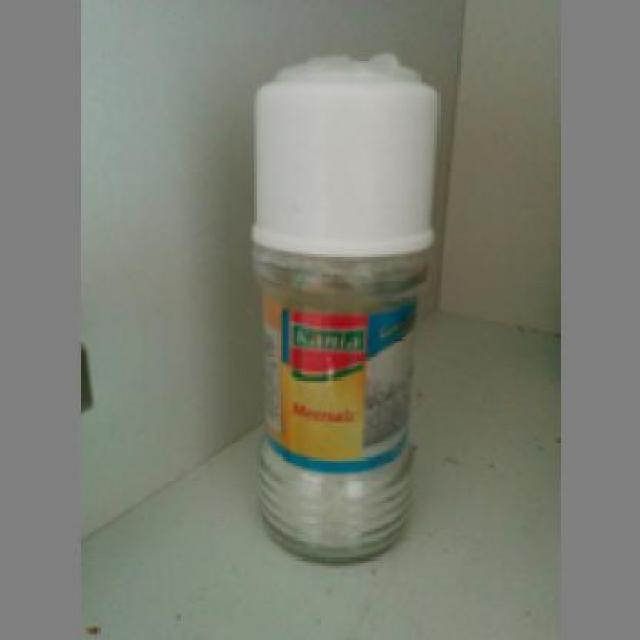Spices: (245, 46, 438, 560)
